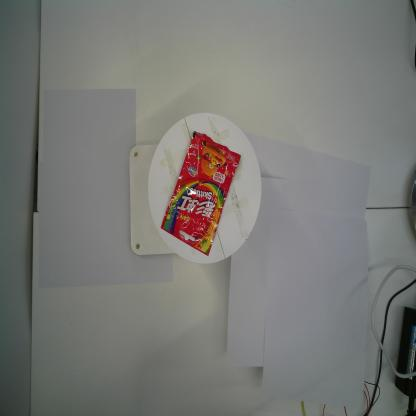Candy: (159, 127, 242, 259)
